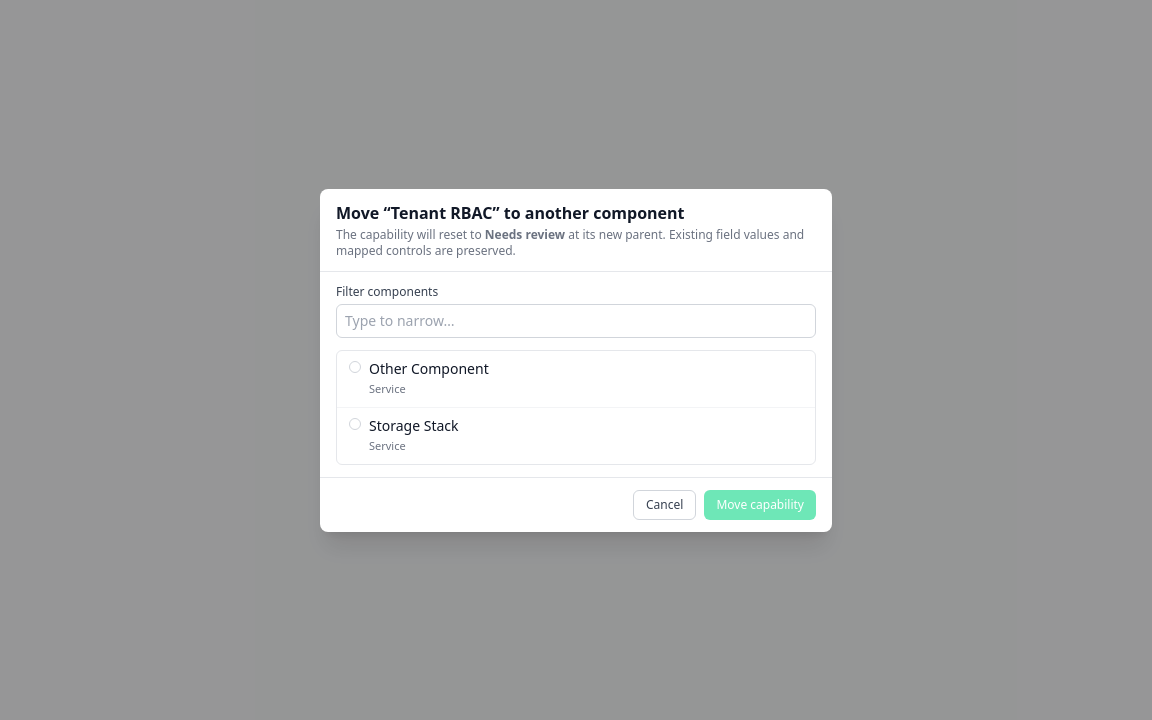
MoveCapabilityDialog — Feature 050 US2 › Confirm button is disabled until a target is selected
Expected: the button with test id "csp-move-capability-confirm" is disabled, [704, 490, 816, 520]
Click the button "Other Component Service": click(429, 368) [337, 350, 815, 406]
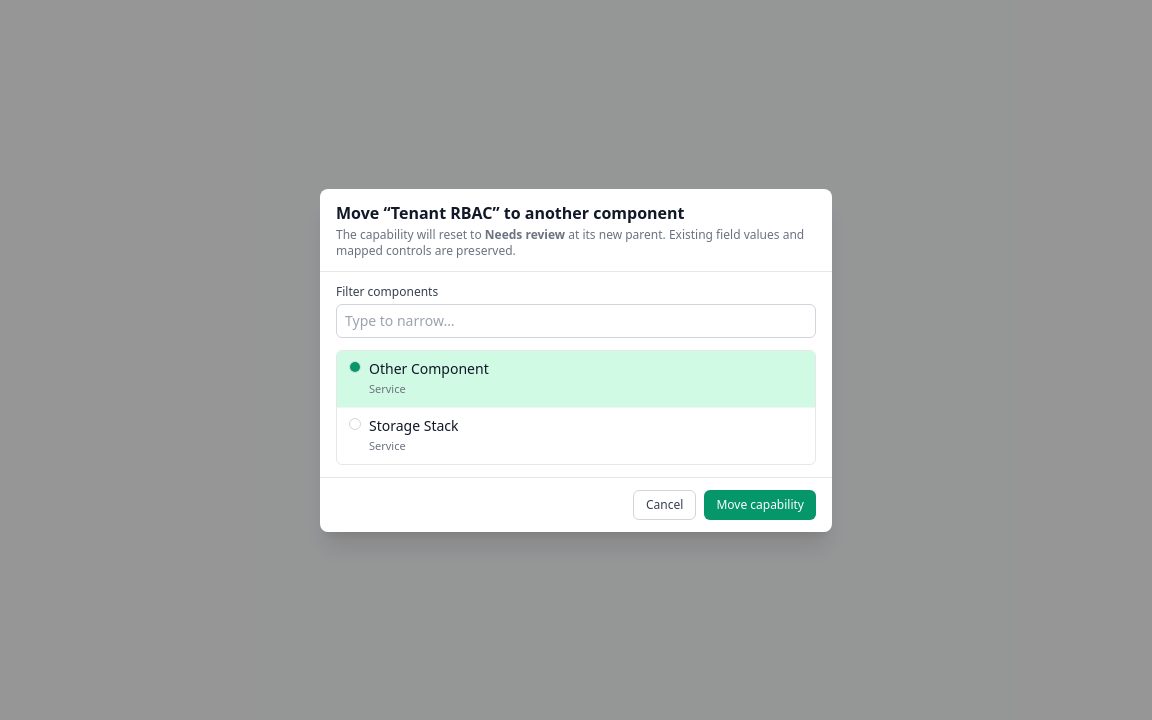
Now the button with test id "csp-move-capability-confirm" is enabled, box [704, 490, 816, 520]
